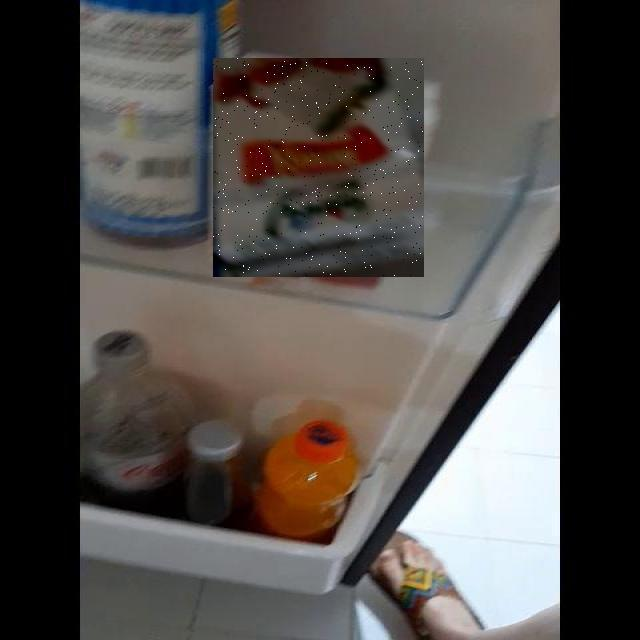Cheese: (213, 58, 424, 277)
